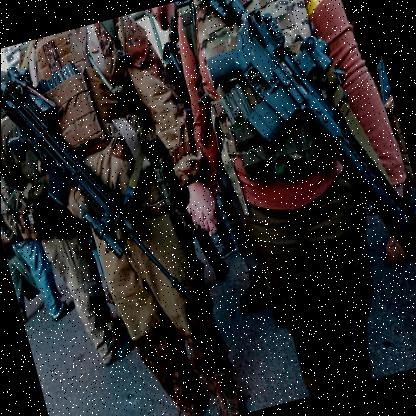rifle: (170, 0, 416, 328), (0, 17, 194, 343)
